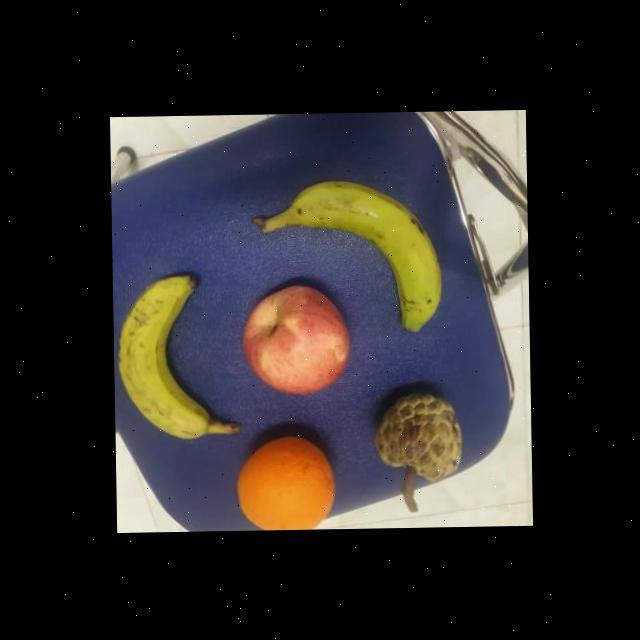Sakya fruit: (370, 389, 464, 484)
apple: (239, 278, 354, 395)
banana: (247, 180, 444, 334), (114, 272, 240, 440)
orange: (233, 428, 337, 530)
